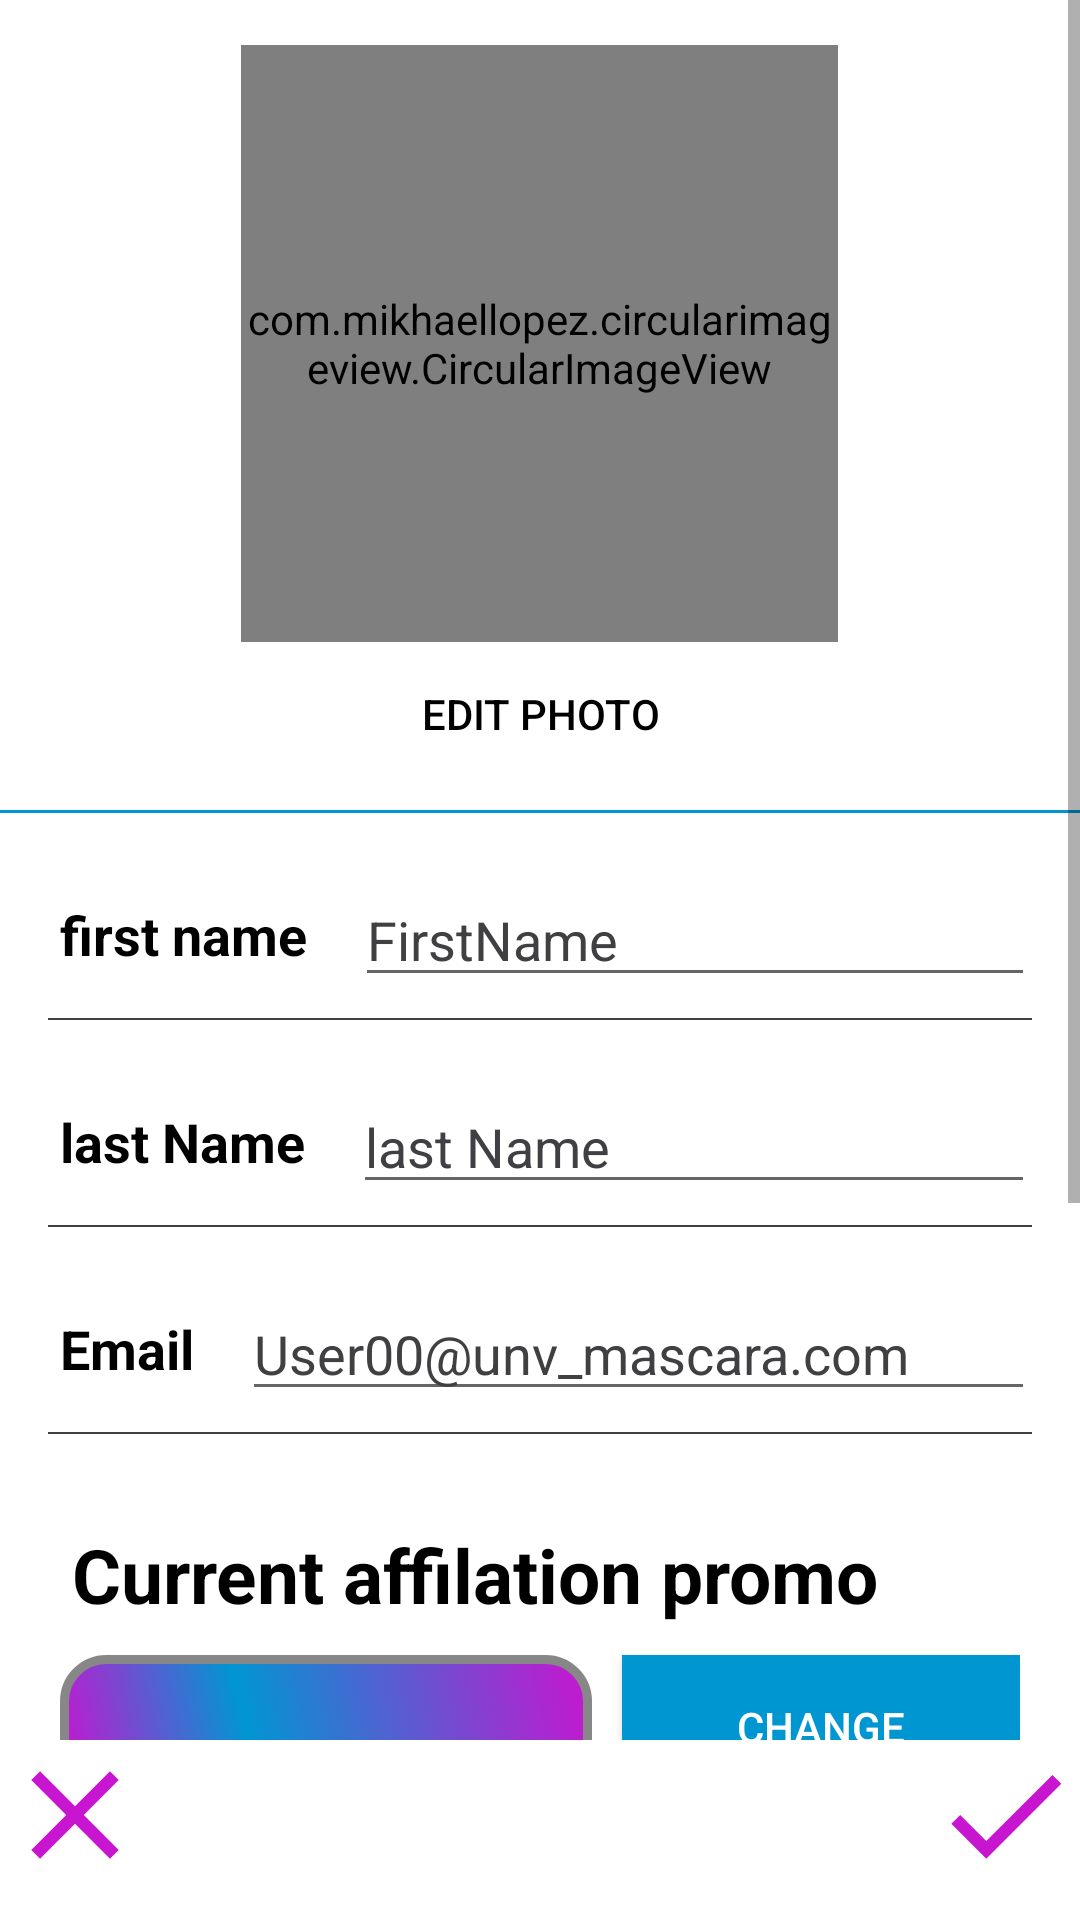

Where to tap for icons on this 1080*1920 app screen, as [x,y]:
check: [1006,1817]
close: [75,1815]
